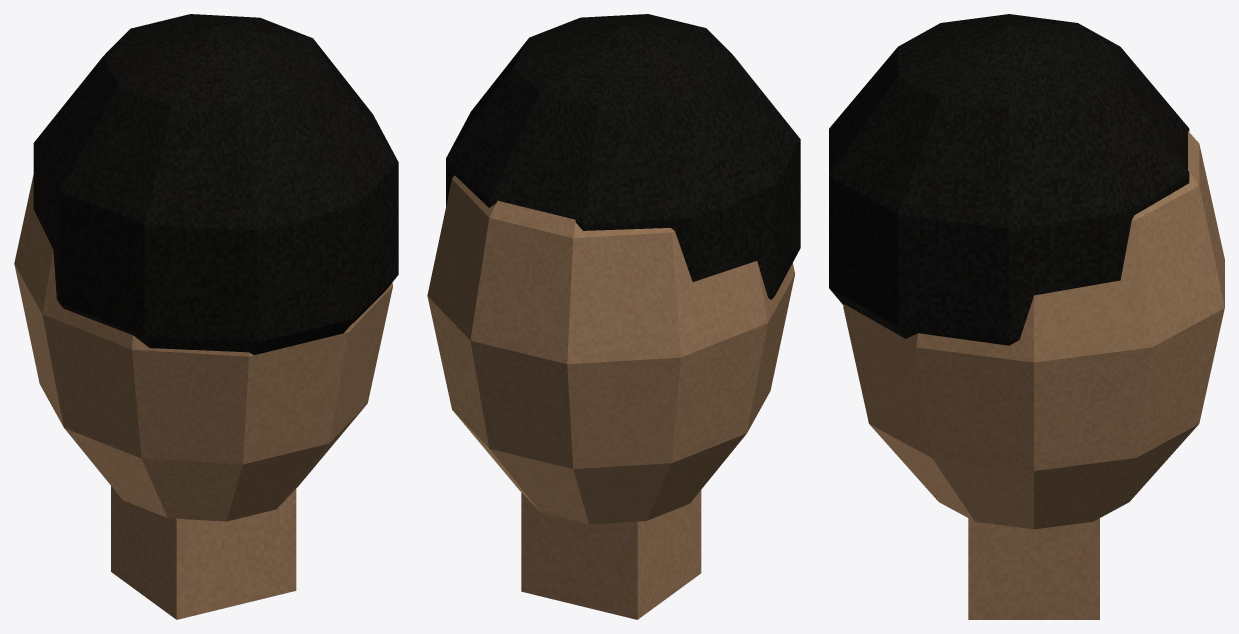
File: driver_head.glb
3 views of the same model, side by side, from view 1: azimuth 30°, elevation 25°; view 2: azimuth 150°, elevation 25°; view 3: azimuth 270°, elevation 25° (orthographic). The views are drawn at different scales.
Parts seen in each view (by area): view 1: driver_head; view 2: driver_head; view 3: driver_head.
Part boxes in pixels (x1,y1,x2,y2): driver_head: (14,14,398,619); driver_head: (427,14,800,619); driver_head: (829,14,1224,619).
Size of the model in its own units: 0.27 by 0.45 by 0.2862.
1 material, 1 textured.
